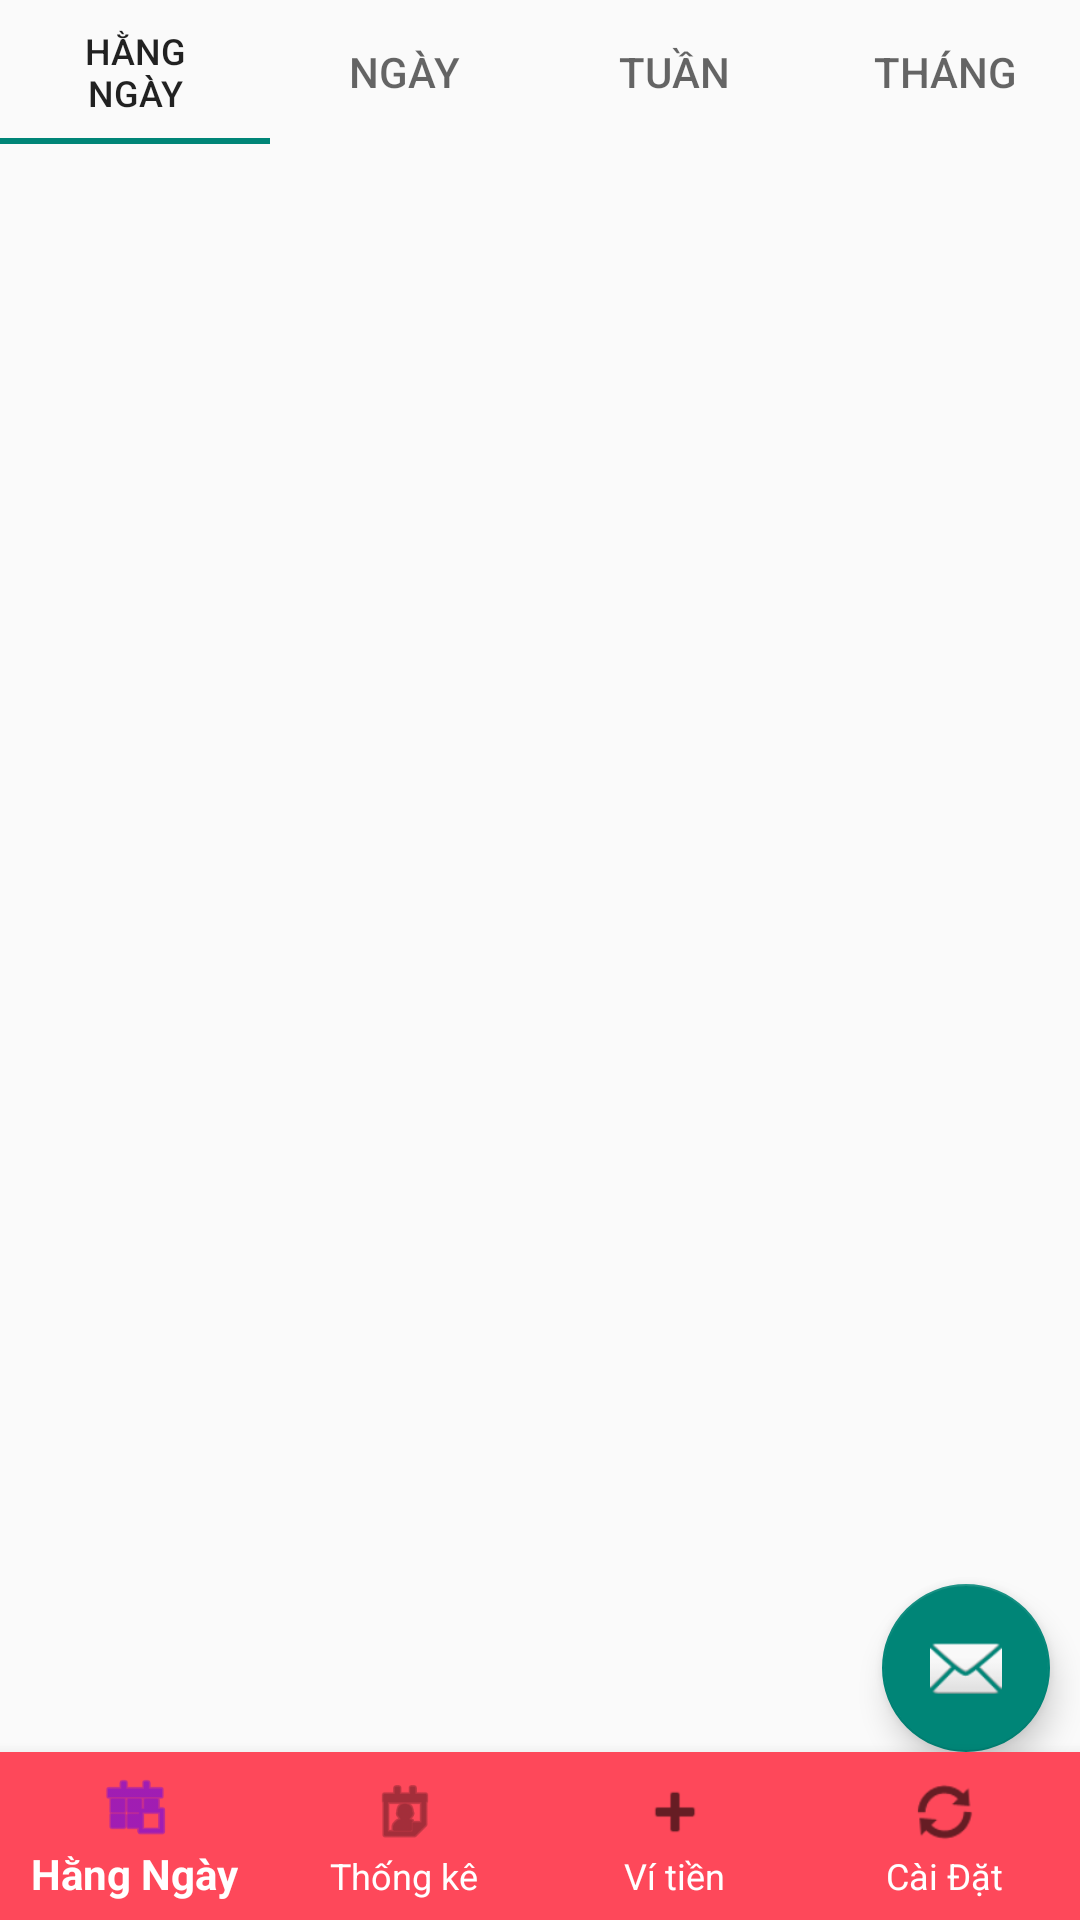

Icons on this 1080 × 1920 Android screen, each with its box as (x1, y1, x2, y2):
email: (882, 1584, 1050, 1752)
